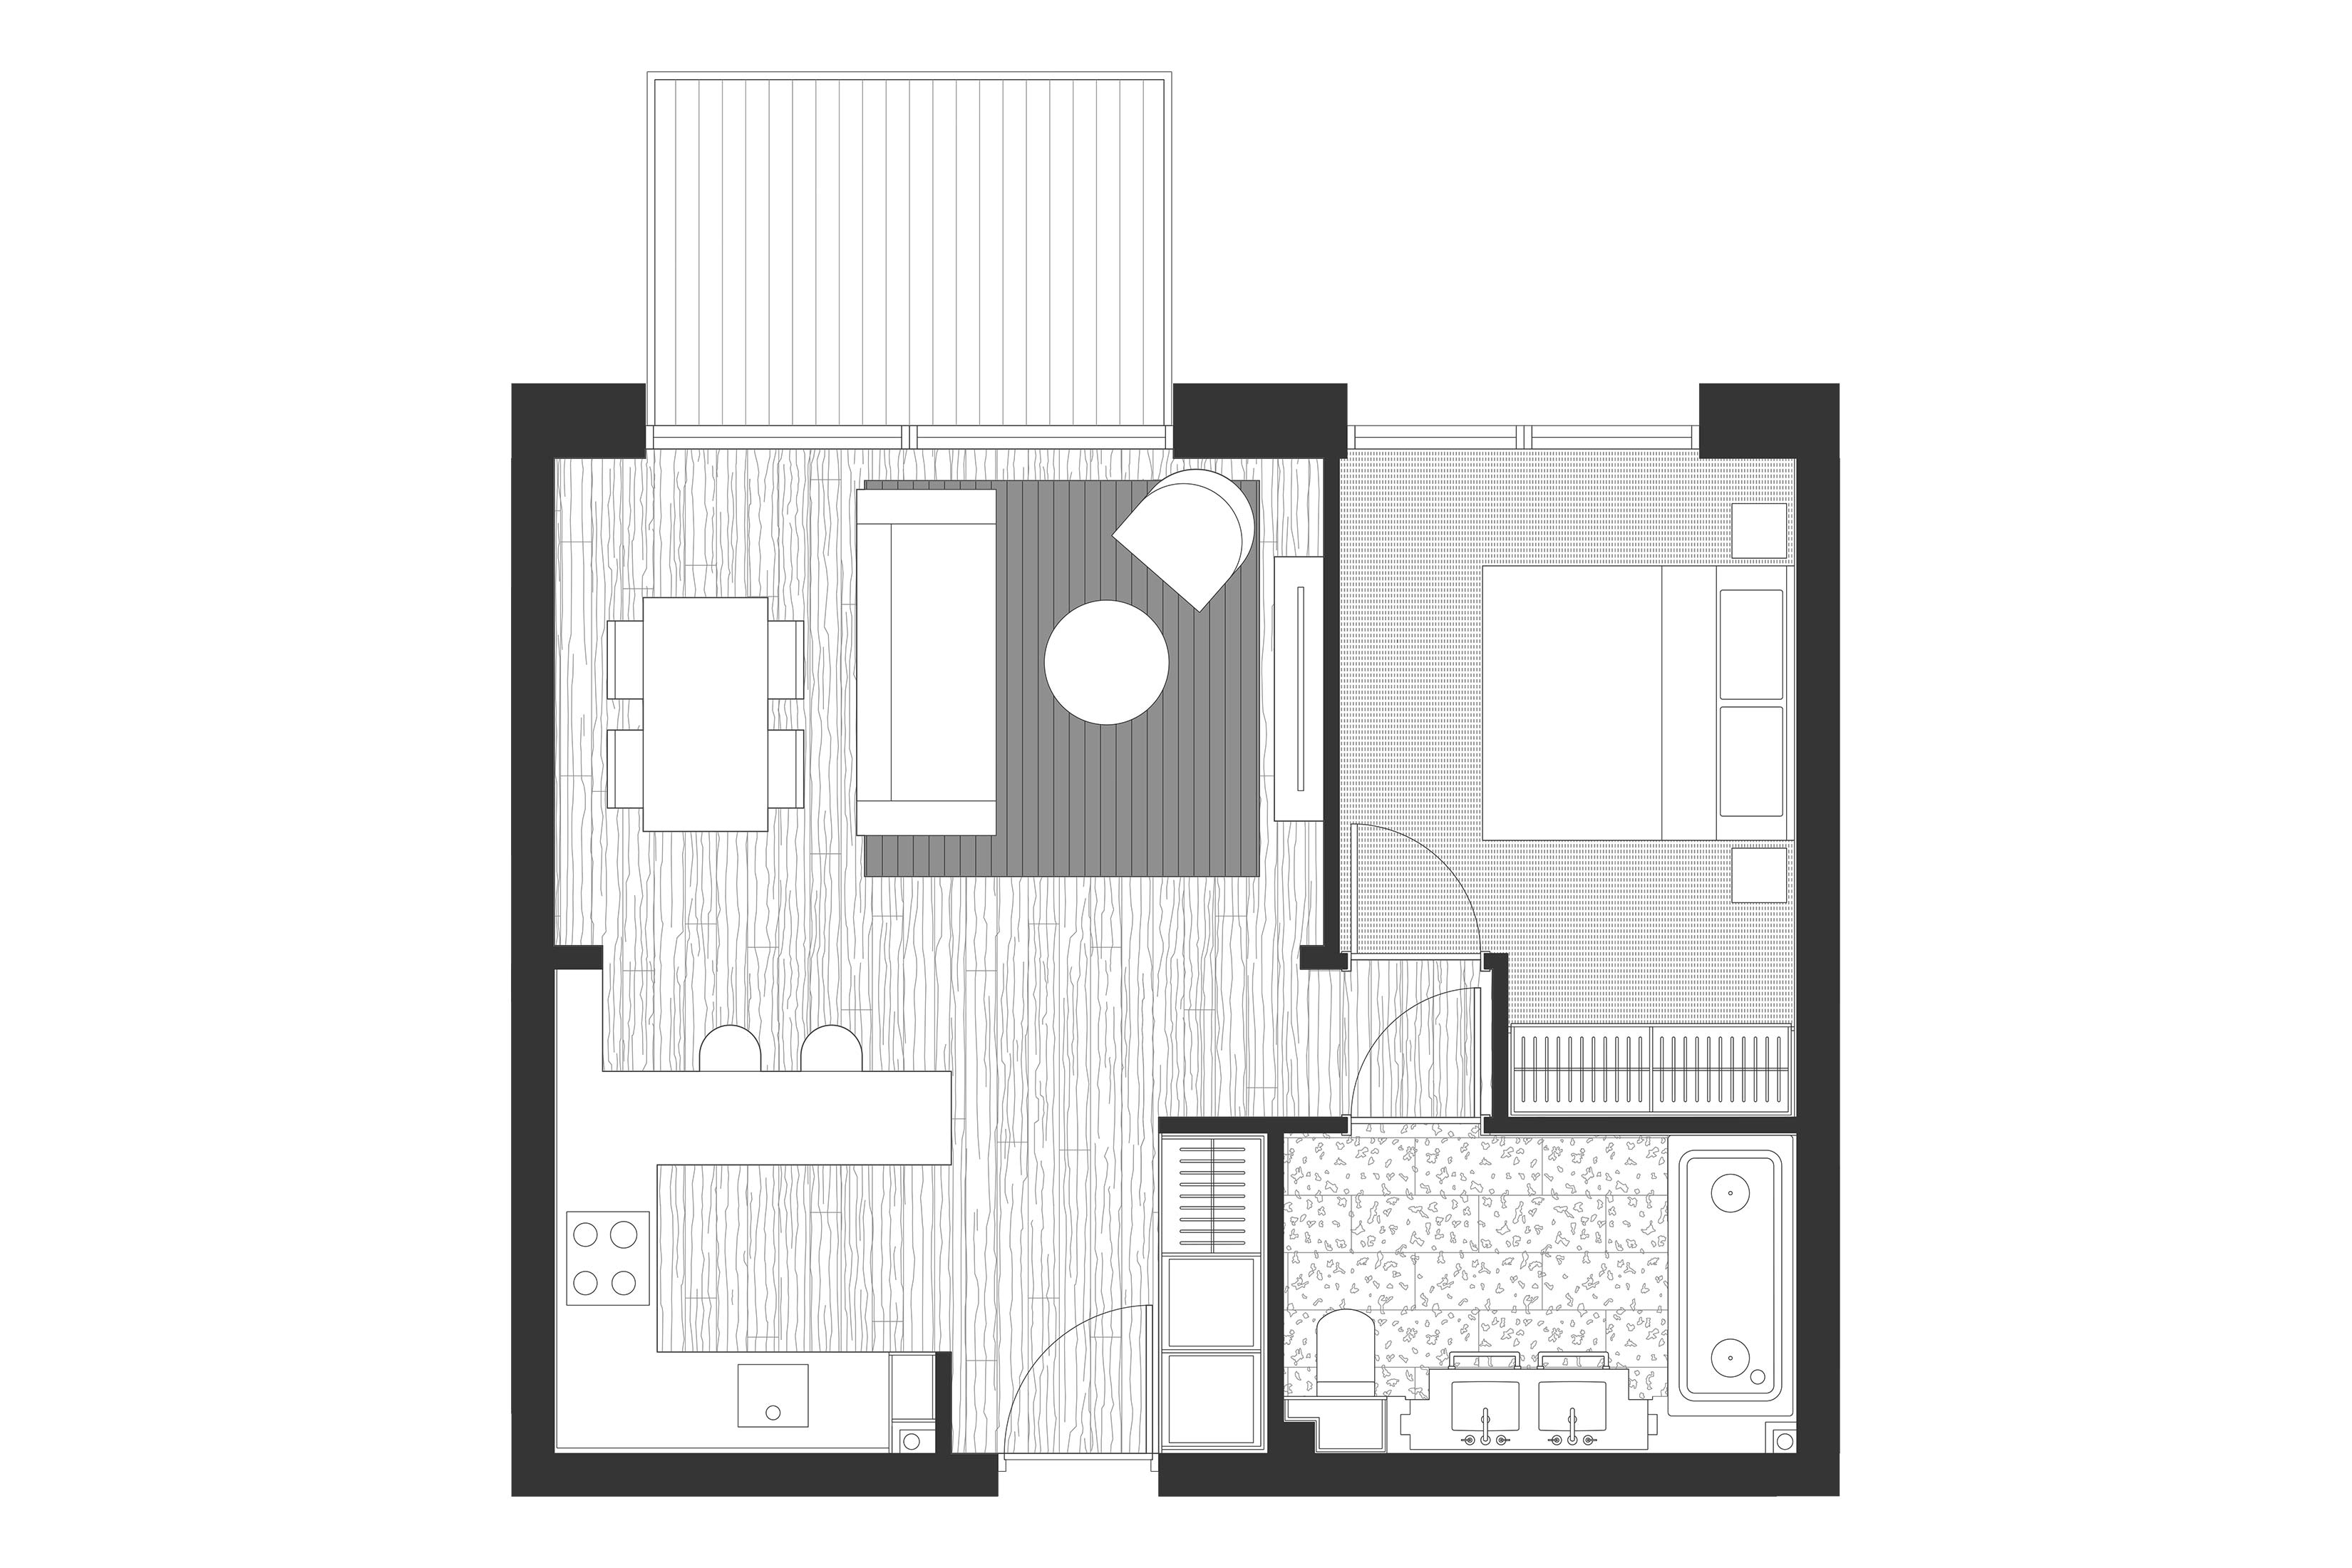window: (639, 423, 1181, 453), (1342, 423, 1704, 453)
